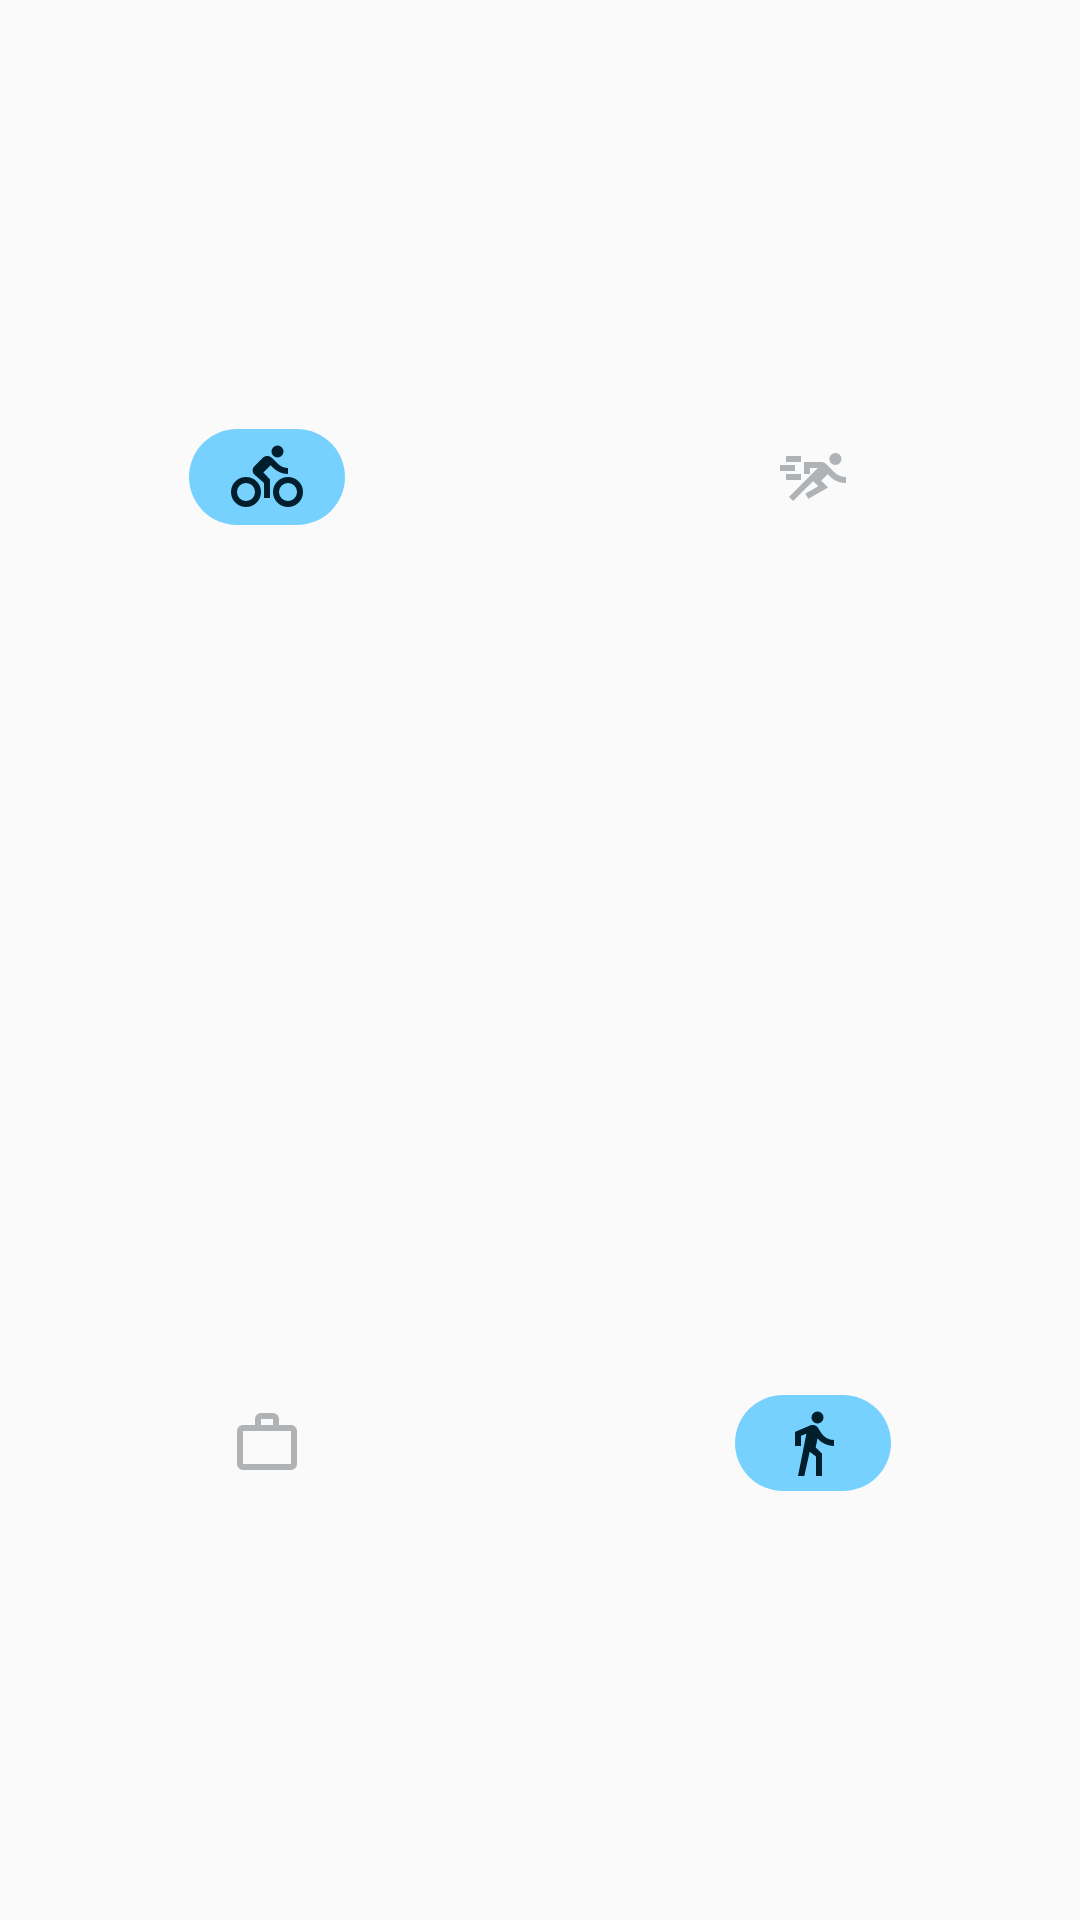

Screen size 1080px x 1920px. Icon name, then its center in pixels as (x,y):
bike: (267,477)
sprint: (813,477)
walk: (813,1443)
work: (267,1441)
